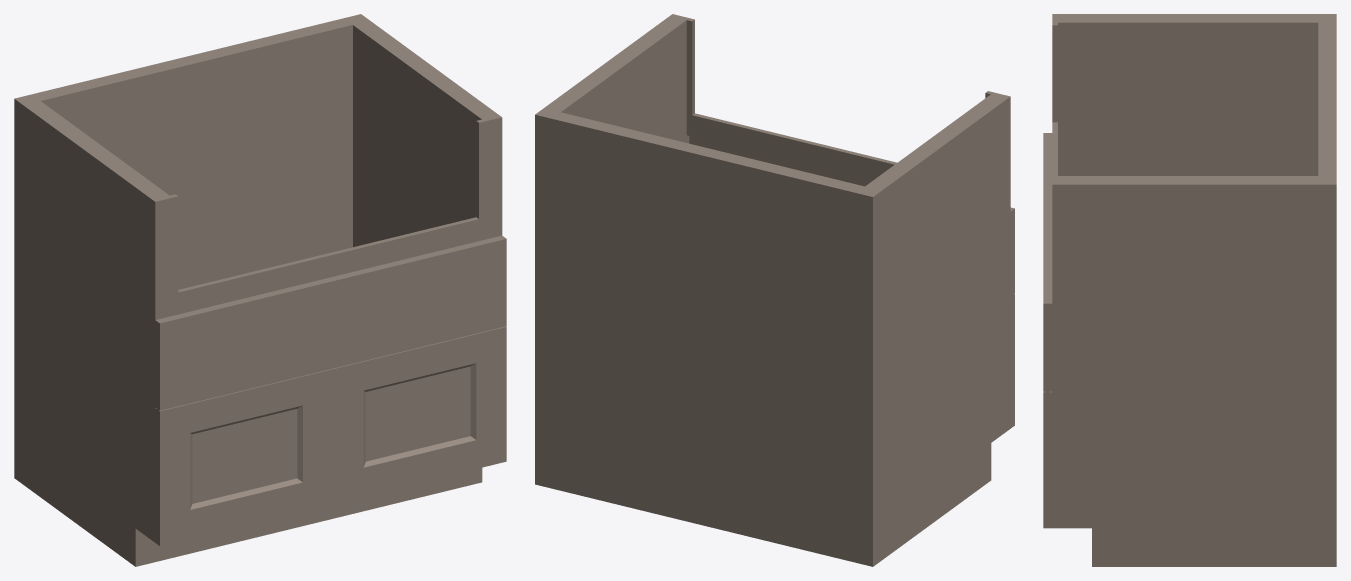
The model's file is Base-Cabinet-Farm-Sink-24-Deep_std_001_W33in.glb.
3 views of the same model, side by side, from view 1: azimuth 30°, elevation 25°; view 2: azimuth 150°, elevation 25°; view 3: azimuth 270°, elevation 25° (orthographic). The views are drawn at different scales.
Visible parts, largest first — view 1: Base-Cabinet-Farm-Sink-24-Deep.std.001_W33in; view 2: Base-Cabinet-Farm-Sink-24-Deep.std.001_W33in; view 3: Base-Cabinet-Farm-Sink-24-Deep.std.001_W33in.
Boxes of the visible parts, x1,y1,x2,y2 form: Base-Cabinet-Farm-Sink-24-Deep.std.001_W33in: [14, 14, 506, 566]; Base-Cabinet-Farm-Sink-24-Deep.std.001_W33in: [535, 14, 1014, 566]; Base-Cabinet-Farm-Sink-24-Deep.std.001_W33in: [1043, 14, 1336, 566].
Bounding box in the file's own units: 0.8382 × 0.8763 × 0.6096.
